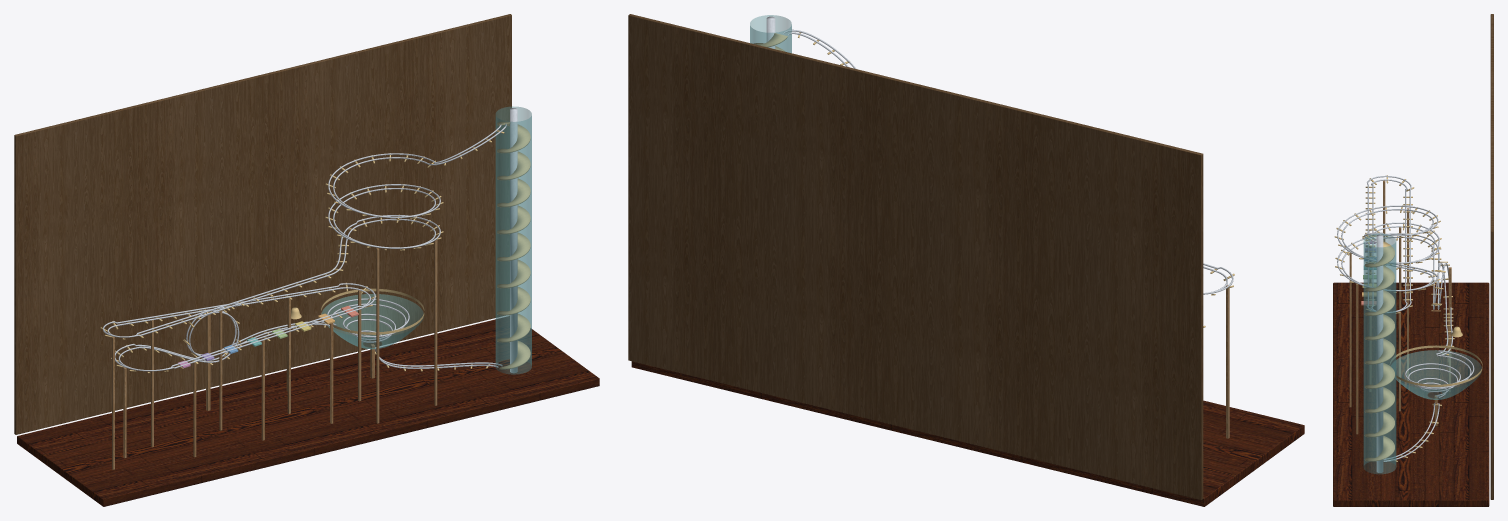
Rendered from marble-track-hd.glb.
3 views of the same model, side by side, from view 1: azimuth 30°, elevation 25°; view 2: azimuth 150°, elevation 25°; view 3: azimuth 270°, elevation 25° (orthographic). The views are drawn at different scales.
Visible parts, largest first — view 1: pegboard, base, lift-tube, rails, posts, lift-thread, funnel, ties, lift-rod; view 2: pegboard, base, lift-tube; view 3: base, lift-tube, rails, lift-thread, funnel, posts, pegboard, ties, lift-rod, funnel-rim, stands.
Boxes of the visible parts, <box> form: pegboard: <box>14,14,511,434</box>; base: <box>17,316,599,506</box>; lift-tube: <box>495,106,531,374</box>; rails: <box>102,124,506,371</box>; posts: <box>112,238,437,469</box>; lift-thread: <box>497,121,530,369</box>; funnel: <box>322,294,423,349</box>; ties: <box>100,130,504,373</box>; lift-rod: <box>510,108,517,373</box>; pegboard: <box>628,14,1203,500</box>; base: <box>631,361,1304,506</box>; lift-tube: <box>750,15,791,53</box>; base: <box>1333,282,1489,506</box>; lift-tube: <box>1363,234,1396,473</box>; rails: <box>1337,175,1474,461</box>; lift-thread: <box>1364,241,1394,461</box>; funnel: <box>1396,350,1481,399</box>; posts: <box>1349,180,1450,434</box>; pegboard: <box>1490,14,1493,499</box>; ties: <box>1334,175,1454,461</box>; lift-rod: <box>1376,234,1383,472</box>; funnel-rim: <box>1390,345,1482,386</box>; stands: <box>1434,267,1451,426</box>.
Bounding box in the file's own units: 3.3 × 1.95 × 1.03.
Materials: 14 (13 with a texture image).
